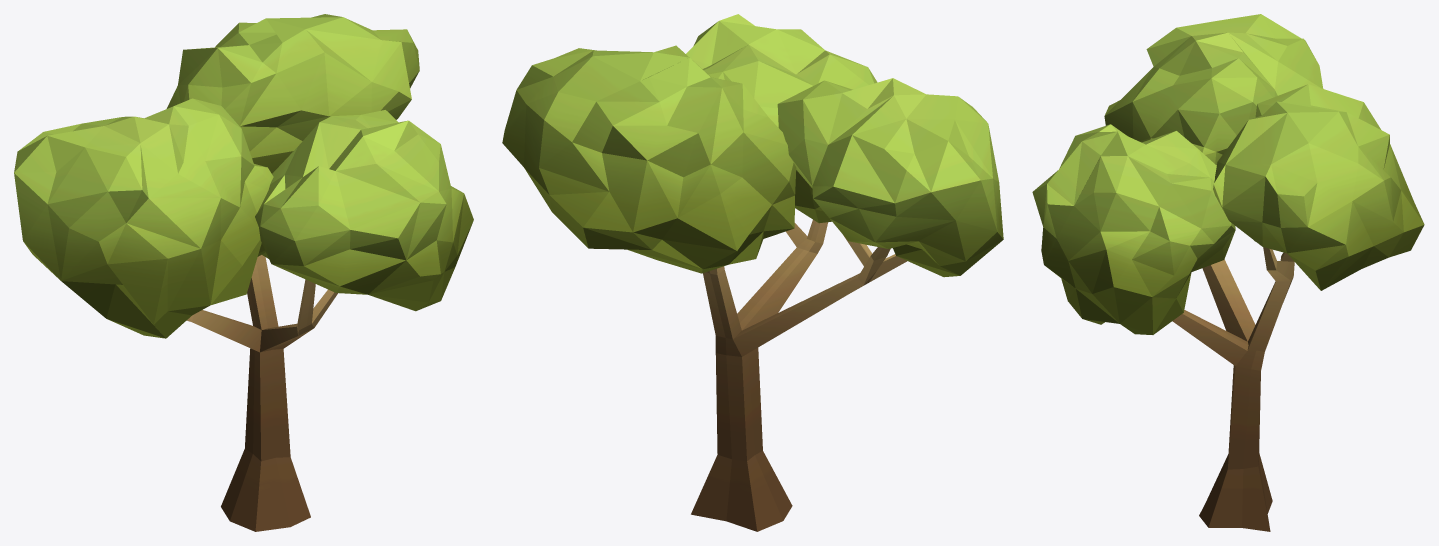
Rendered from pack01_foliage_03.fbx.
3 renders of one model, left to right at view 1: azimuth 30°, elevation 25°; view 2: azimuth 150°, elevation 25°; view 3: azimuth 270°, elevation 25°, orthographic. The views are drawn at different scales.
Parts seen in each view (by area): view 1: Tree_average_regular; view 2: Tree_average_regular; view 3: Tree_average_regular.
Part boxes in pixels (<box>): Tree_average_regular: <box>14,14,473,531</box>; Tree_average_regular: <box>502,14,1003,531</box>; Tree_average_regular: <box>1032,14,1424,531</box>.
Bounding box in the file's own units: 1469 × 1462 × 1204.
1 material, 1 textured.
